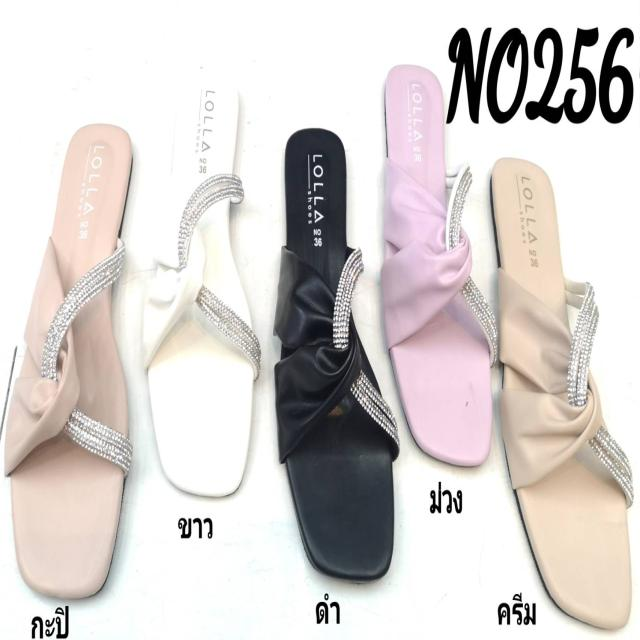black: (277, 127, 395, 574)
cream: (489, 151, 634, 628)
kapi: (5, 123, 129, 609)
purple: (383, 66, 489, 470)
white: (144, 71, 258, 499)
